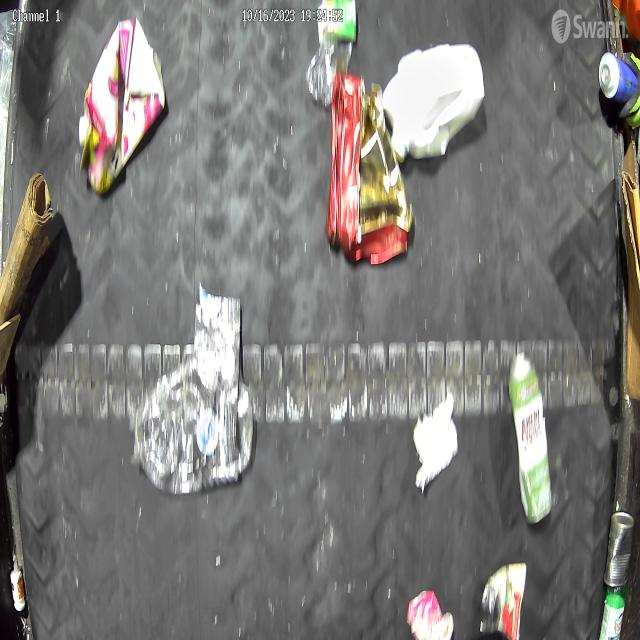can: (507, 349, 553, 526), (479, 558, 529, 640), (602, 508, 636, 587), (406, 586, 455, 640), (598, 51, 639, 107)
milk_jug: (383, 38, 487, 166)
plastic_bottle: (134, 355, 254, 493), (305, 0, 359, 111)
